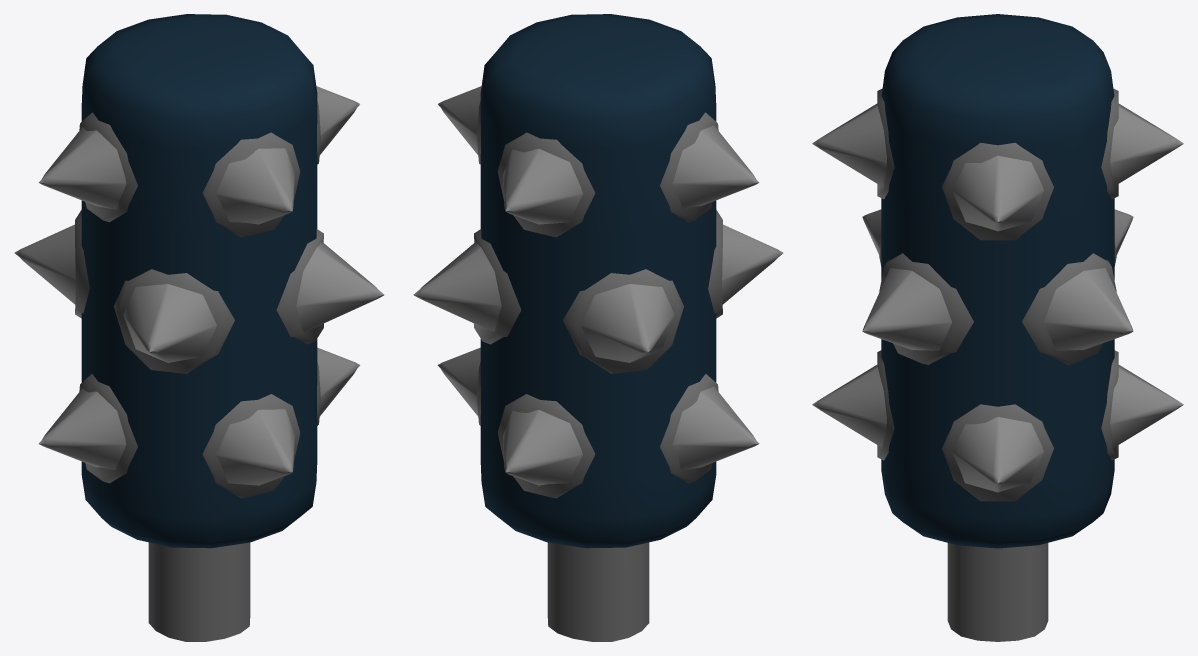
The model's file is Cylinder Hazard.glb.
3 renders of one model, left to right at view 1: azimuth 30°, elevation 25°; view 2: azimuth 150°, elevation 25°; view 3: azimuth 270°, elevation 25°, orthographic.
Parts seen in each view (by area): view 1: Hazard_Cylinder; view 2: Hazard_Cylinder; view 3: Hazard_Cylinder.
Part boxes in pixels (x1=…): Hazard_Cylinder: x1=14, y1=14, x2=384, y2=641; Hazard_Cylinder: x1=413, y1=14, x2=783, y2=641; Hazard_Cylinder: x1=812, y1=14, x2=1183, y2=641.
Size of the model in its own units: 2.28 by 3.88 by 2.28.
